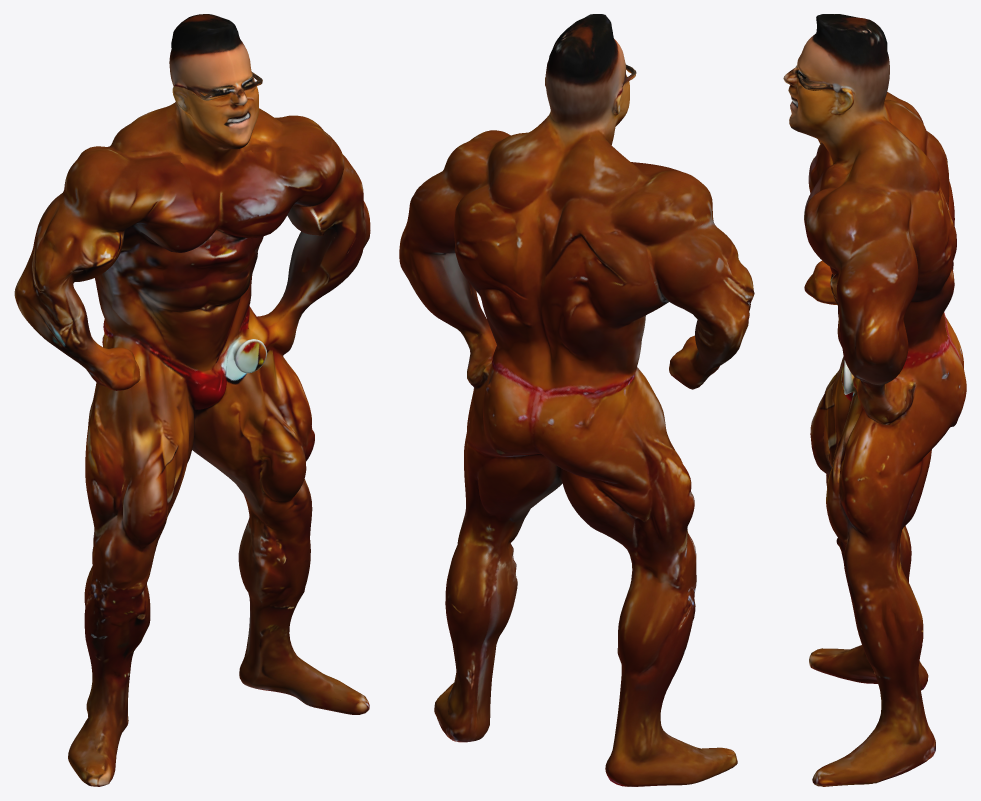
Rendered from lowpoly-open-hand-crab.glb.
The picture shows the model from 3 angles, left to right: view 1: azimuth 30°, elevation 25°; view 2: azimuth 150°, elevation 25°; view 3: azimuth 270°, elevation 25°; orthographic projection. The views are drawn at different scales.
Parts seen in each view (by area): view 1: tripo_node_bcfe7095-59b9-465e-8beb-cac9fb46340a; view 2: tripo_node_bcfe7095-59b9-465e-8beb-cac9fb46340a; view 3: tripo_node_bcfe7095-59b9-465e-8beb-cac9fb46340a.
Boxes of the visible parts, x1=… form: tripo_node_bcfe7095-59b9-465e-8beb-cac9fb46340a: x1=14, y1=14, x2=370, y2=786; tripo_node_bcfe7095-59b9-465e-8beb-cac9fb46340a: x1=399, y1=14, x2=754, y2=786; tripo_node_bcfe7095-59b9-465e-8beb-cac9fb46340a: x1=783, y1=14, x2=966, y2=786.
Size of the model in its own units: 0.495 by 0.9997 by 0.2335.
1 material, 1 textured.
